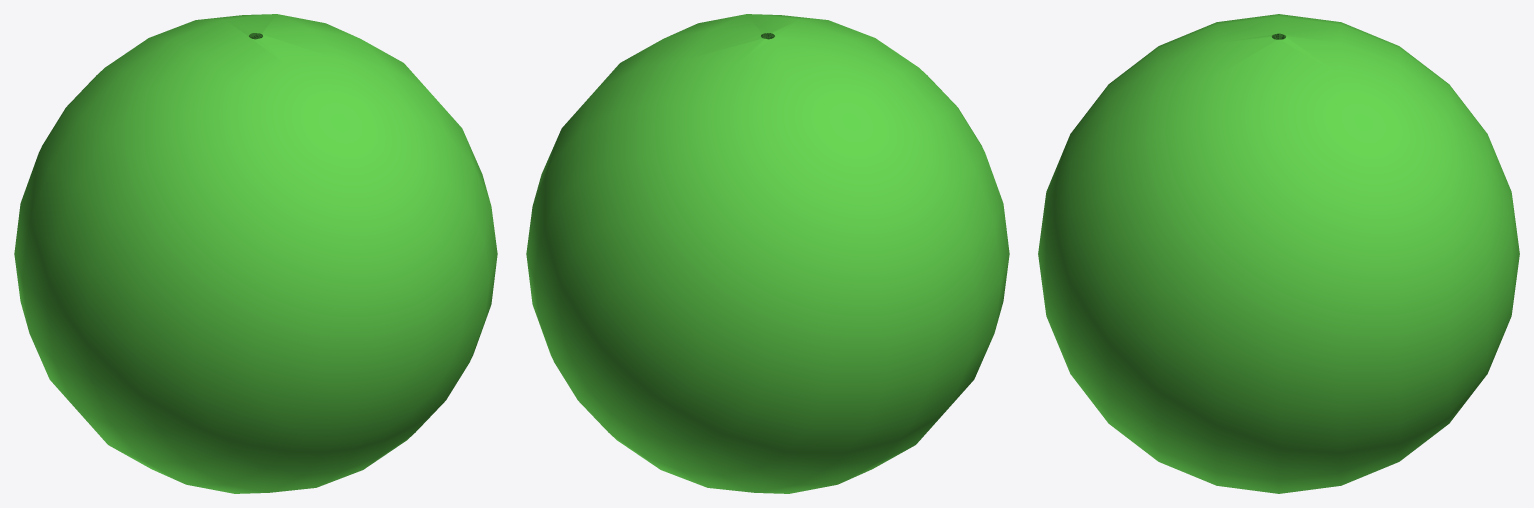
The model's file is world.fbx.
The picture shows the model from 3 angles, left to right: view 1: azimuth 30°, elevation 25°; view 2: azimuth 150°, elevation 25°; view 3: azimuth 270°, elevation 25°; orthographic projection.
Visible parts, largest first — view 1: SketchUp; view 2: SketchUp; view 3: SketchUp.
Part boxes in pixels (box(x1,y1,x2,y2)): SketchUp: box(14, 14, 497, 493); SketchUp: box(526, 14, 1009, 493); SketchUp: box(1038, 14, 1519, 493).
Size of the model in its own units: 39370 by 39370 by 39215.
